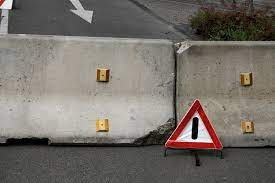obstacle: (1, 29, 275, 153)
